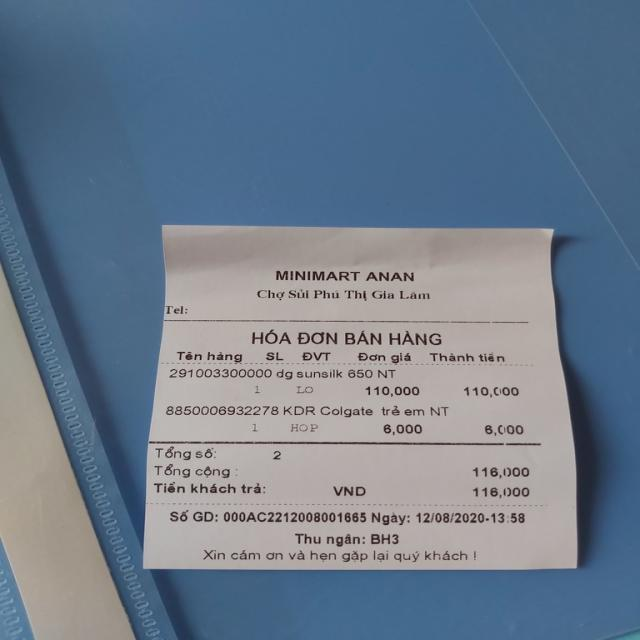Date: (416, 508, 485, 526)
Store_Name: (273, 266, 419, 284)
amount_number: (473, 464, 531, 482)
label_total: (152, 463, 231, 479)
